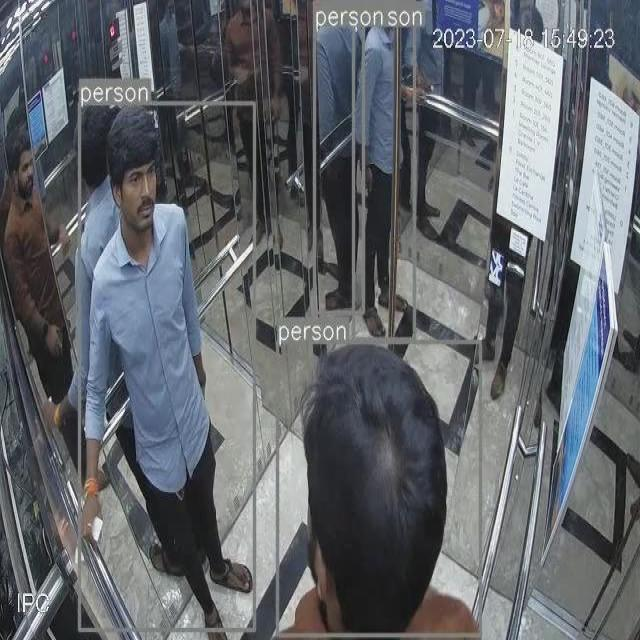person: (79, 108, 255, 631), (282, 342, 482, 634), (365, 20, 417, 337), (315, 22, 366, 314)
